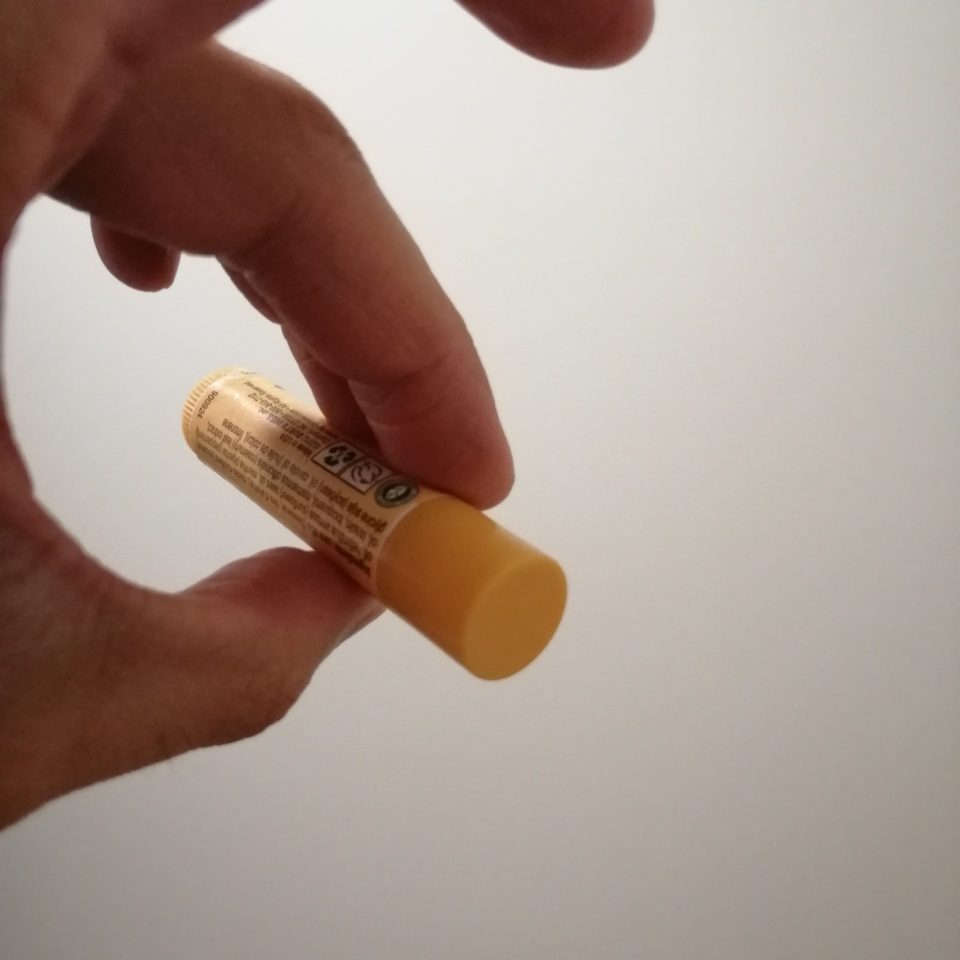chapstick: (180, 366, 571, 683)
